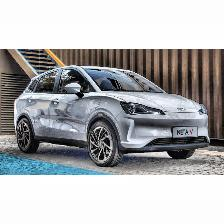EV: (17, 67, 210, 170)
